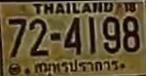1: (88, 16, 94, 53)
2: (30, 18, 47, 55)
4: (64, 16, 80, 54)
7: (8, 18, 25, 56)
8: (122, 15, 139, 51)
9: (102, 16, 119, 53)
SPK: (34, 59, 125, 74)
